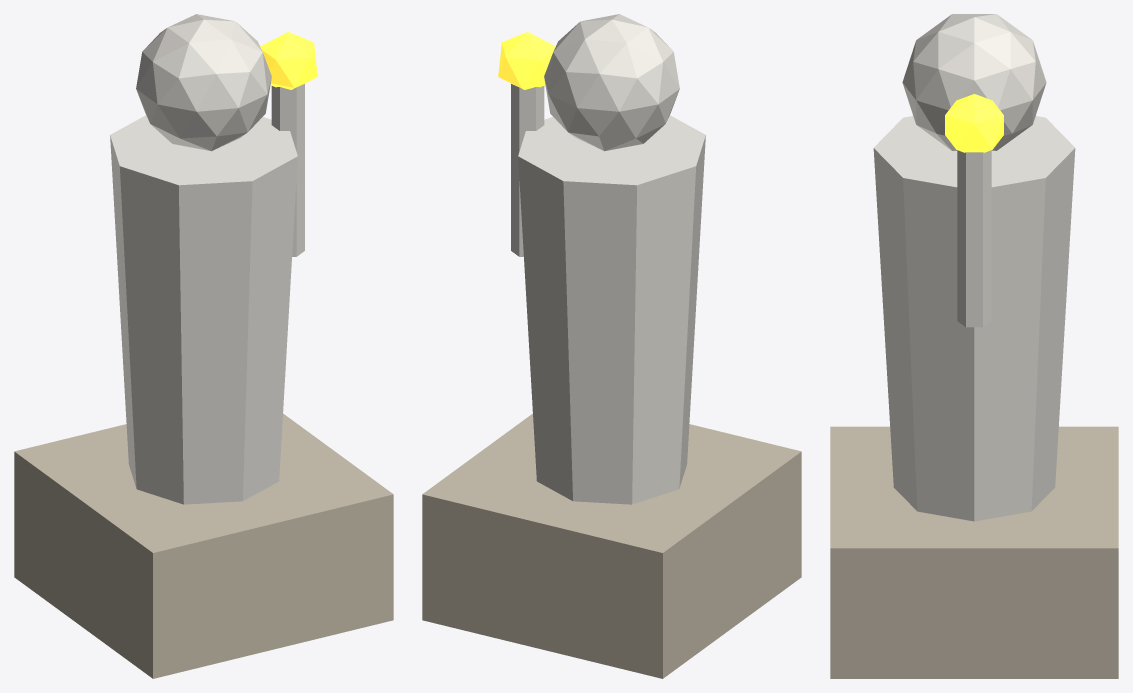
Rendered from statue.glb.
The picture shows the model from 3 angles, left to right: view 1: azimuth 30°, elevation 25°; view 2: azimuth 150°, elevation 25°; view 3: azimuth 270°, elevation 25°; orthographic projection. The views are drawn at different scales.
Visible parts, largest first — view 1: statue; view 2: statue; view 3: statue.
Part boxes in pixels (<box>): statue: <box>14,14,393,678</box>; statue: <box>422,14,801,678</box>; statue: <box>830,14,1118,678</box>.
Bounding box in the file's own units: 1 × 2.3 × 1.
